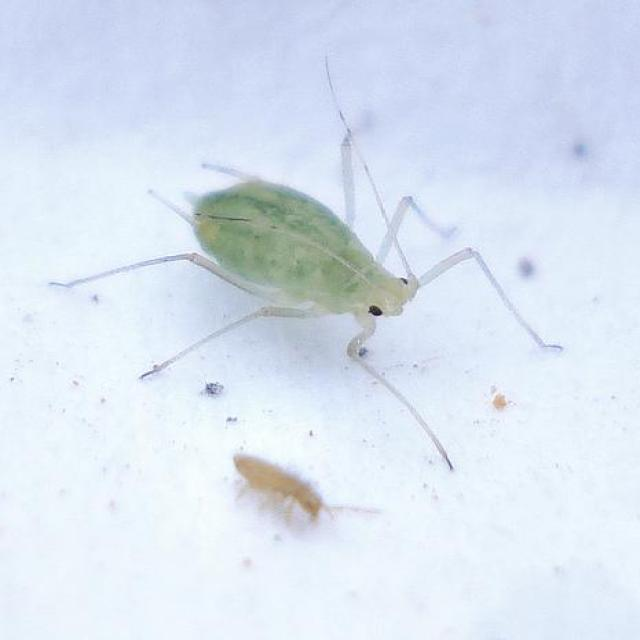Aphids: (107, 148, 515, 432)
